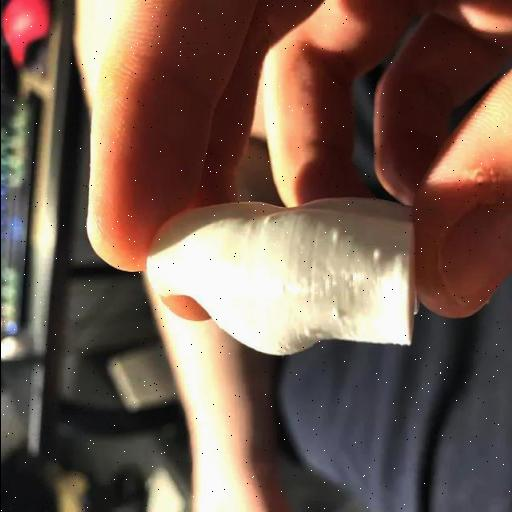blobs: (367, 246, 385, 268), (323, 227, 344, 245), (328, 303, 342, 322), (299, 325, 313, 341), (272, 280, 286, 294), (260, 214, 272, 230)
